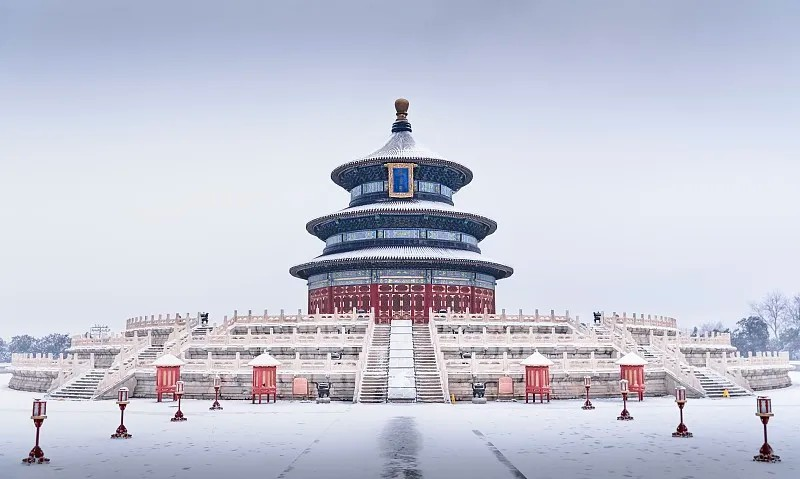Heaven: (287, 99, 513, 323)
